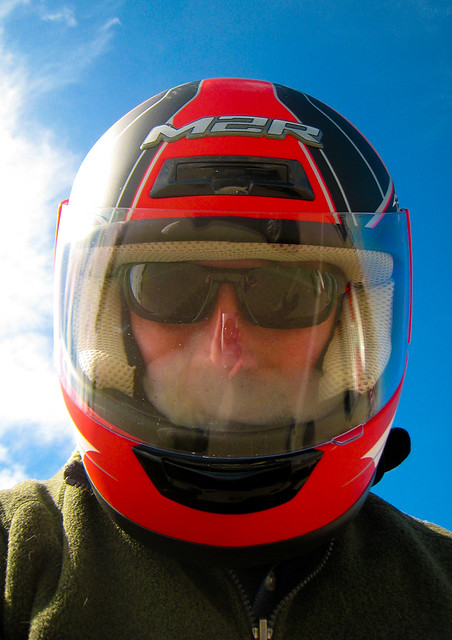helmet: (56, 76, 408, 522)
